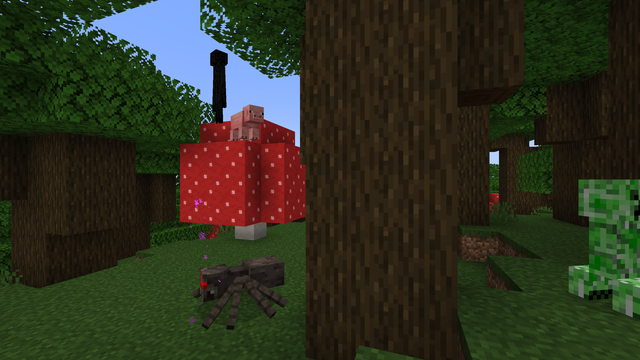araignees: (184, 249, 282, 327)
cochons: (225, 109, 262, 141)
creepers: (573, 173, 637, 314)
endermens: (207, 46, 229, 122)
